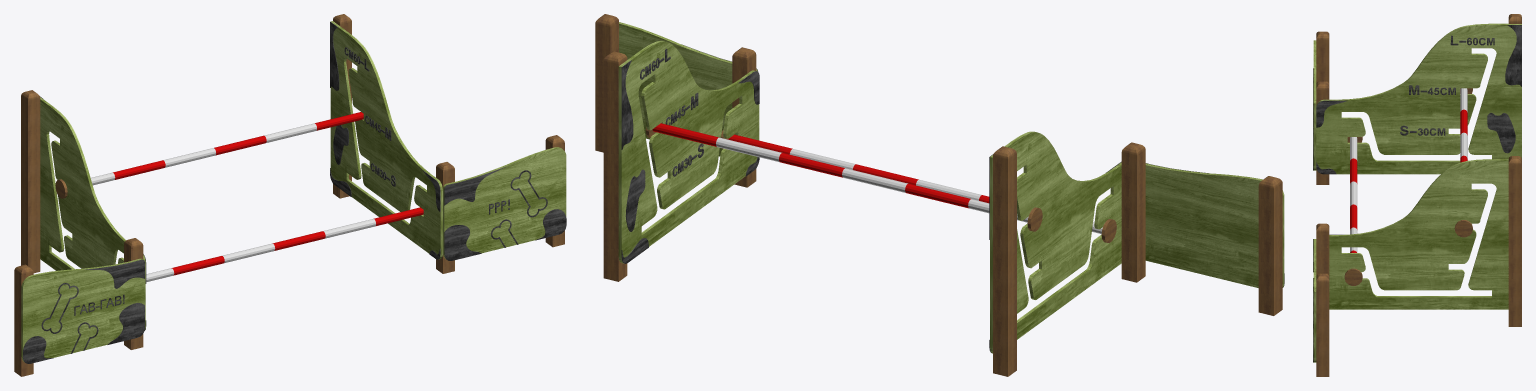
File: prep.glb
The picture shows the model from 3 angles, left to right: view 1: azimuth 30°, elevation 25°; view 2: azimuth 150°, elevation 25°; view 3: azimuth 270°, elevation 25°; orthographic projection. The views are drawn at different scales.
Parts seen in each view (by area): view 1: пунктир, Mesh004, Mesh002, Металлокаркас, Буквы; view 2: пунктир, Mesh004, Металлокаркас, Mesh002, Mesh001; view 3: пунктир, Mesh004, Mesh002, Металлокаркас, Mesh001, Буквы, Mesh003.
Boxes of the visible parts, bbox=[...] form: пунктир: bbox=[21, 21, 566, 361]; Mesh004: bbox=[14, 14, 564, 376]; Mesh002: bbox=[23, 21, 566, 363]; Металлокаркас: bbox=[90, 112, 423, 281]; Буквы: bbox=[344, 47, 509, 214]; пунктир: bbox=[618, 22, 1284, 353]; Mesh004: bbox=[595, 14, 1282, 376]; Металлокаркас: bbox=[652, 123, 1102, 233]; Mesh002: bbox=[621, 44, 1284, 352]; Mesh001: bbox=[645, 127, 1116, 242]; пунктир: bbox=[1313, 23, 1521, 362]; Mesh004: bbox=[1316, 14, 1521, 376]; Mesh002: bbox=[1313, 25, 1521, 362]; Металлокаркас: bbox=[1350, 88, 1467, 252]; Mesh001: bbox=[1344, 88, 1472, 285]; Буквы: bbox=[1418, 37, 1494, 135]; Mesh003: bbox=[1400, 35, 1458, 135].
Size of the model in its own units: 2.24 by 0.705 by 0.798.
Materials: 5 (3 with a texture image).
